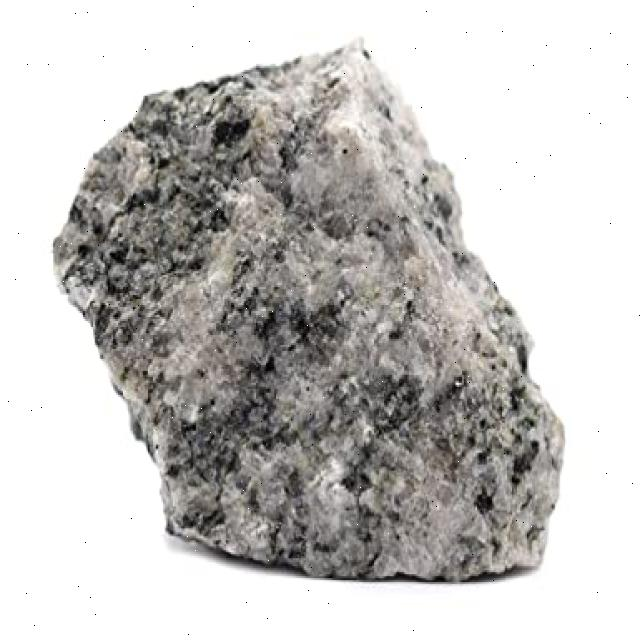Igneous: (46, 28, 577, 582)
